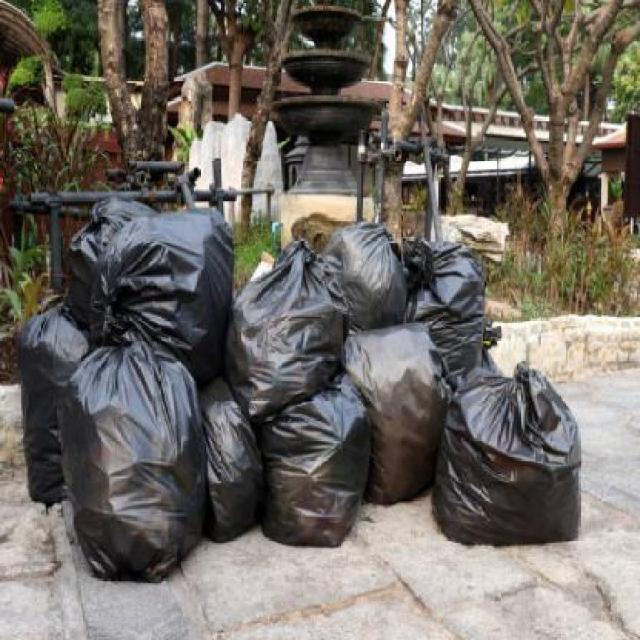Garbage_Bag: (53, 329, 212, 586), (432, 356, 586, 554), (220, 235, 348, 423)
